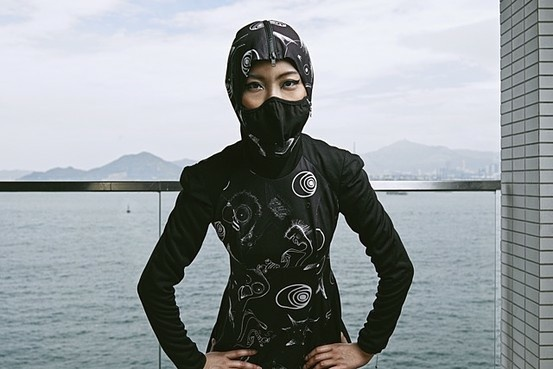with_mask: (228, 56, 315, 152)
